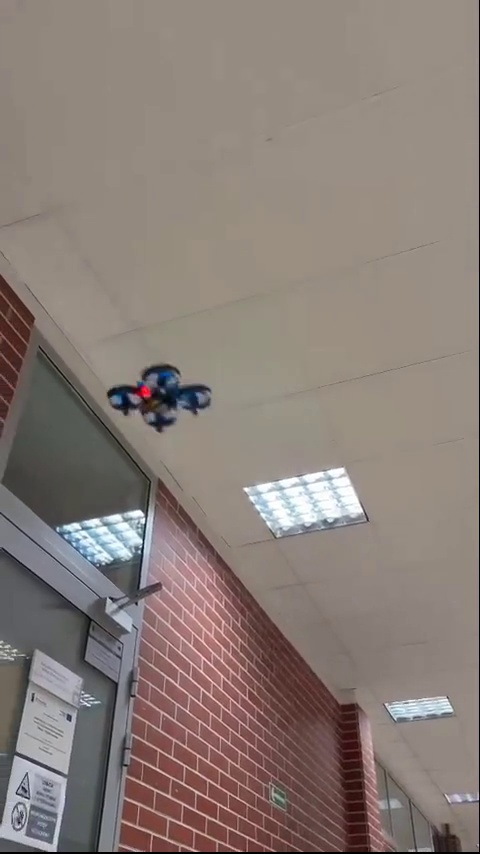drone: (108, 363, 212, 434)
